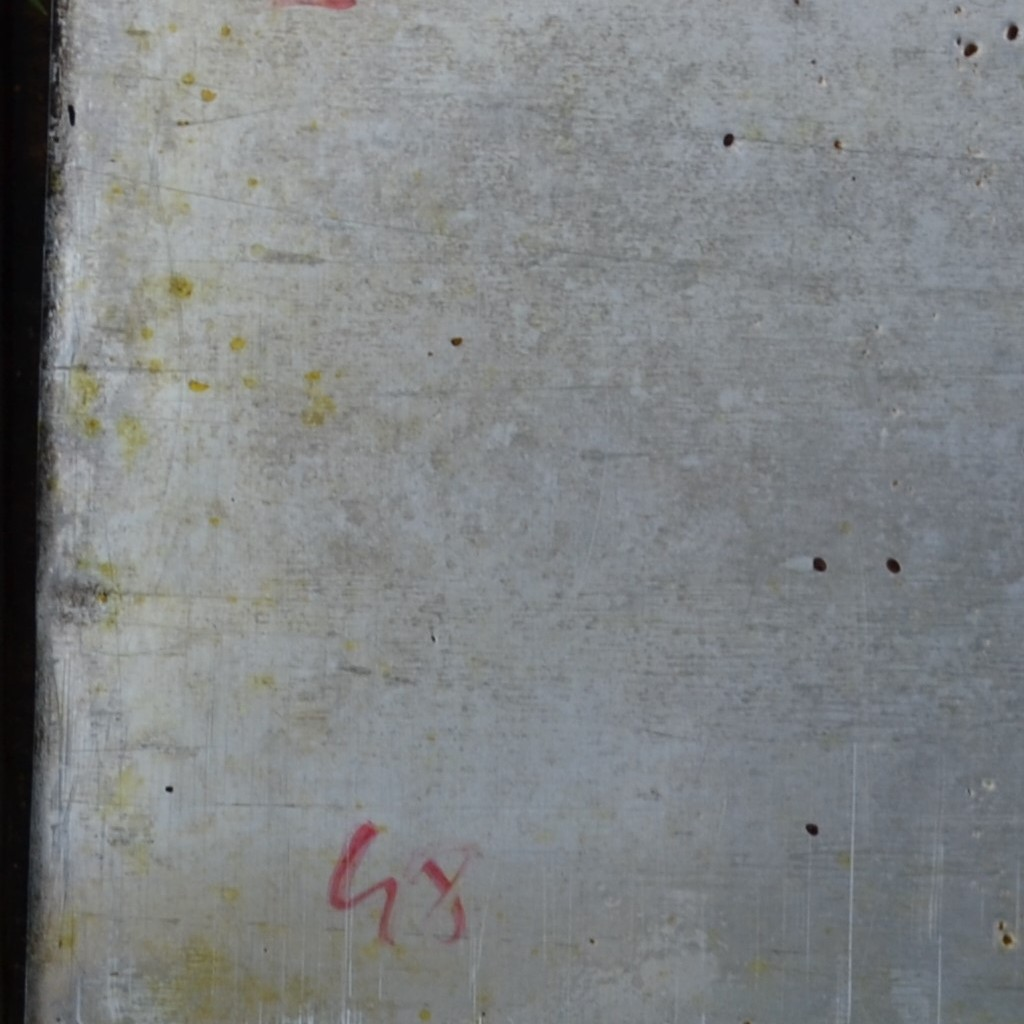varroa: (884, 554, 902, 576), (1003, 20, 1020, 43), (962, 40, 980, 59), (803, 820, 821, 838), (811, 555, 828, 574), (721, 129, 735, 148)
